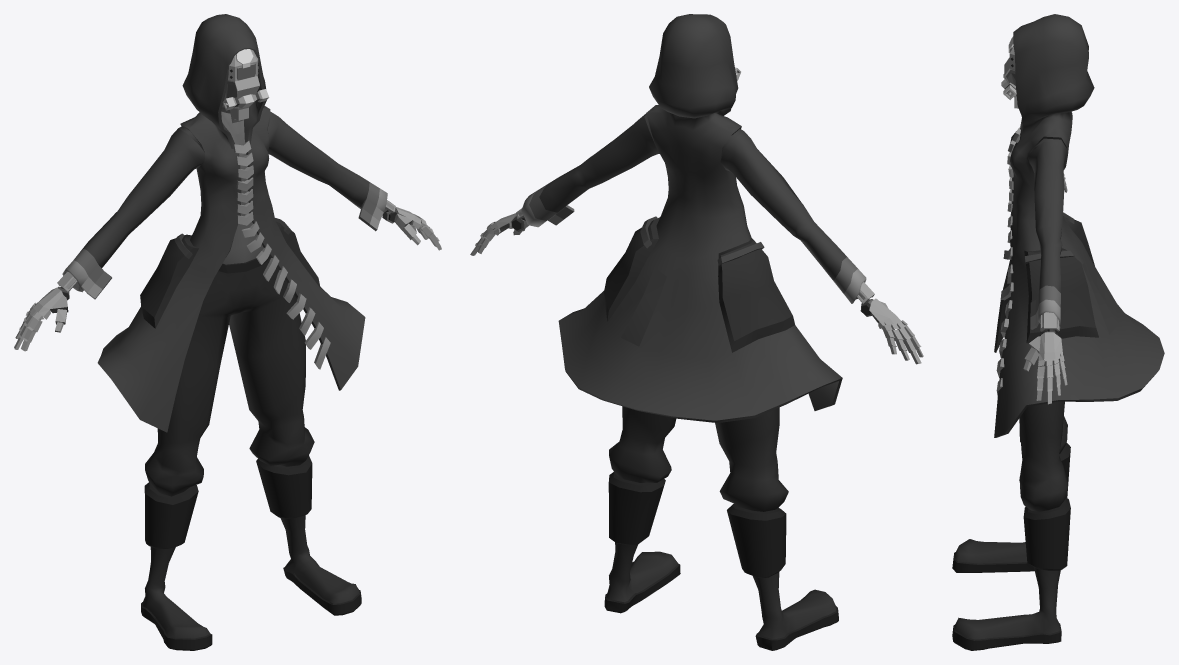
File: npc_female_A.FBX
3 views of the same model, side by side, from view 1: azimuth 30°, elevation 25°; view 2: azimuth 150°, elevation 25°; view 3: azimuth 270°, elevation 25° (orthographic). The views are drawn at different scales.
Parts seen in each view (by area): view 1: npc_female_A; view 2: npc_female_A; view 3: npc_female_A.
Boxes of the visible parts, bbox=[...] form: npc_female_A: bbox=[14, 14, 441, 650]; npc_female_A: bbox=[470, 14, 923, 650]; npc_female_A: bbox=[952, 14, 1164, 650].
Size of the model in its own units: 64.15 by 83.35 by 27.36.
